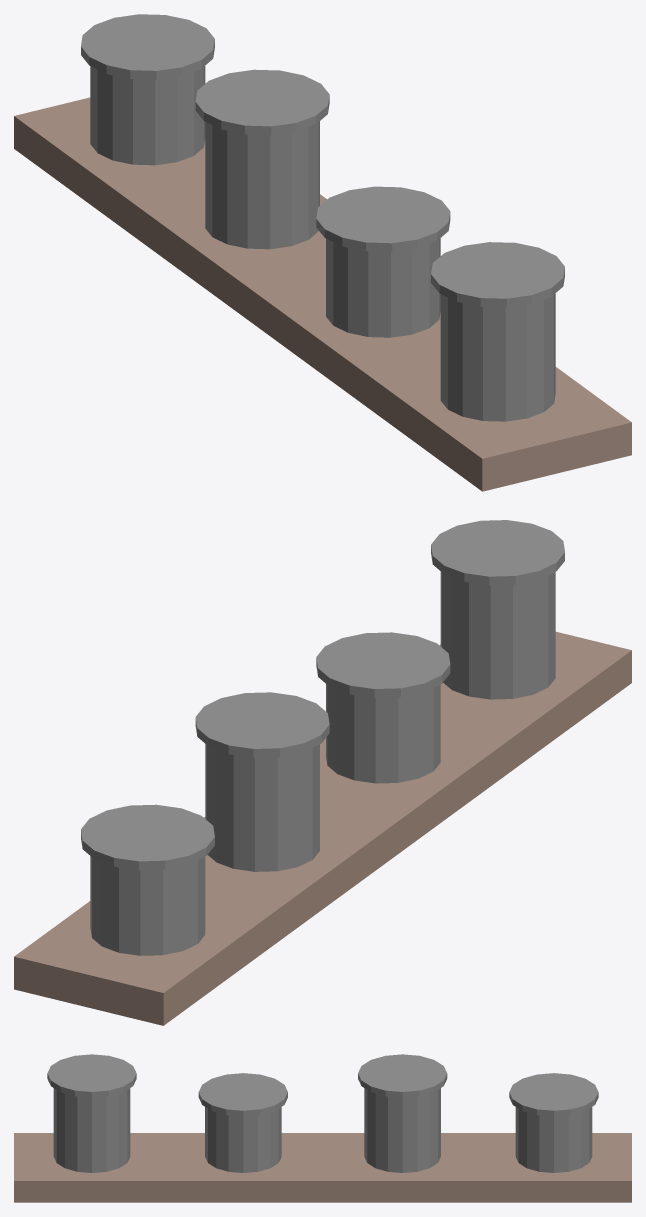
The model's file is dm_roofstackrow.glb.
3 views of the same model, one above another, from view 1: azimuth 30°, elevation 25°; view 2: azimuth 150°, elevation 25°; view 3: azimuth 270°, elevation 25° (orthographic). The views are drawn at different scales.
Visible parts, largest first — view 1: dm_roofstackrow; view 2: dm_roofstackrow; view 3: dm_roofstackrow.
Part boxes in pixels (x1,y1,x2,y2): dm_roofstackrow: [14, 14, 631, 491]; dm_roofstackrow: [14, 520, 631, 1025]; dm_roofstackrow: [14, 1054, 631, 1202].
Size of the model in its own units: 1.43 by 1.46 by 7.76.
